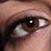eye: (24, 19, 38, 32)
